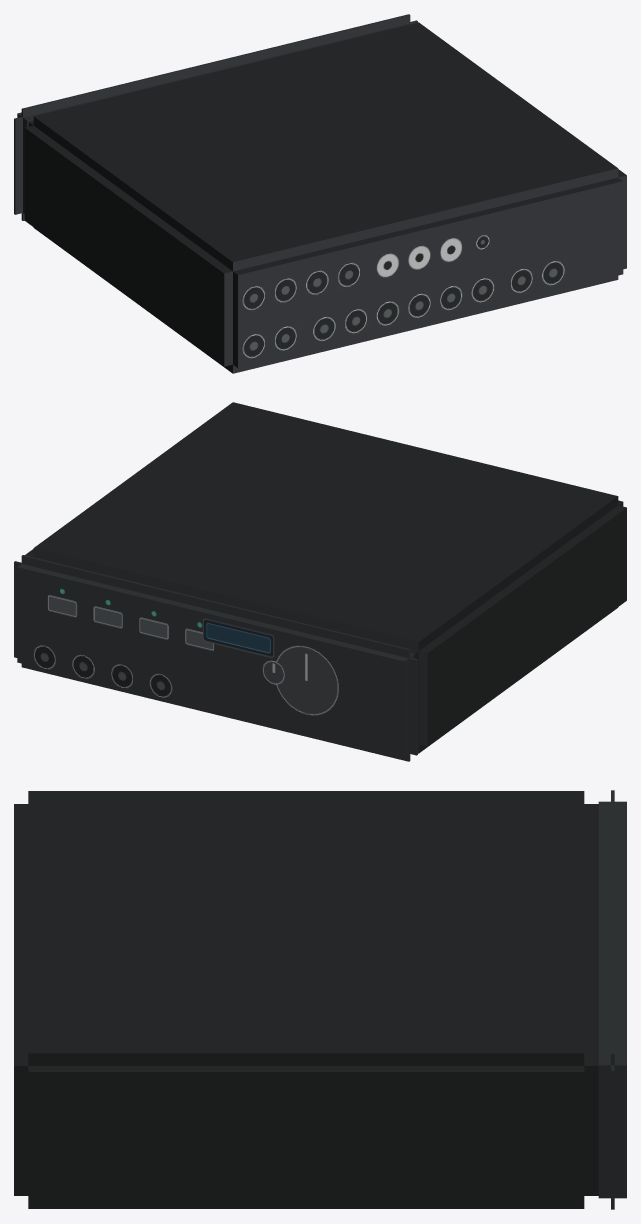
File: presonus-monitor-station-v2.glb
The picture shows the model from 3 angles, top to bottom: view 1: azimuth 30°, elevation 25°; view 2: azimuth 150°, elevation 25°; view 3: azimuth 270°, elevation 25°; orthographic projection. The views are drawn at different scales.
Visible parts, largest first — view 1: presonus-monitor-station-v2-body; view 2: presonus-monitor-station-v2-body; view 3: presonus-monitor-station-v2-body.
Part boxes in pixels (x1=…): presonus-monitor-station-v2-body: x1=14, y1=14, x2=626, y2=373; presonus-monitor-station-v2-body: x1=14, y1=402, x2=626, y2=761; presonus-monitor-station-v2-body: x1=14, y1=790, x2=626, y2=1209.
Bounding box in the file's own units: 0.2286 × 0.0635 × 0.216.
Materials: 1 (1 with a texture image).
